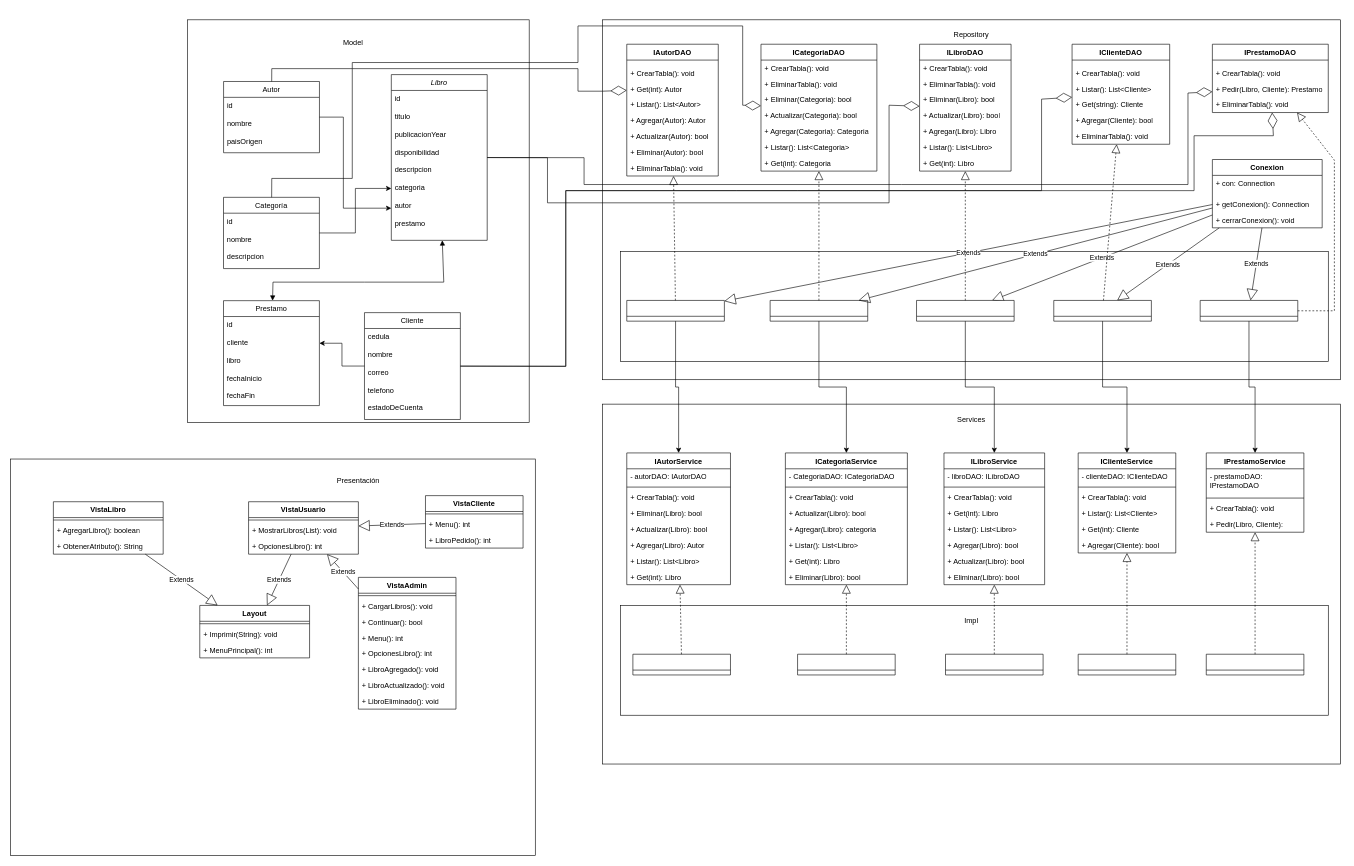
Image size: 1354x866. Some labels were removed from this diagram. The shapes that lost their labels are listed below. From the top down, each one's centre as x and y in pixels, then its label:
the point at 675,310: AutorDAO
the point at 819,310: CategoriaDAO
the point at 965,310: LibroDAO
the point at 1102,310: ClienteDAO
the point at 1249,310: PrestamoDAO
the point at 681,664: AutorService
the point at 846,664: CategoriaService
the point at 994,664: LibroService
the point at 1127,664: ClienteService
the point at 1255,664: PrestamoService
